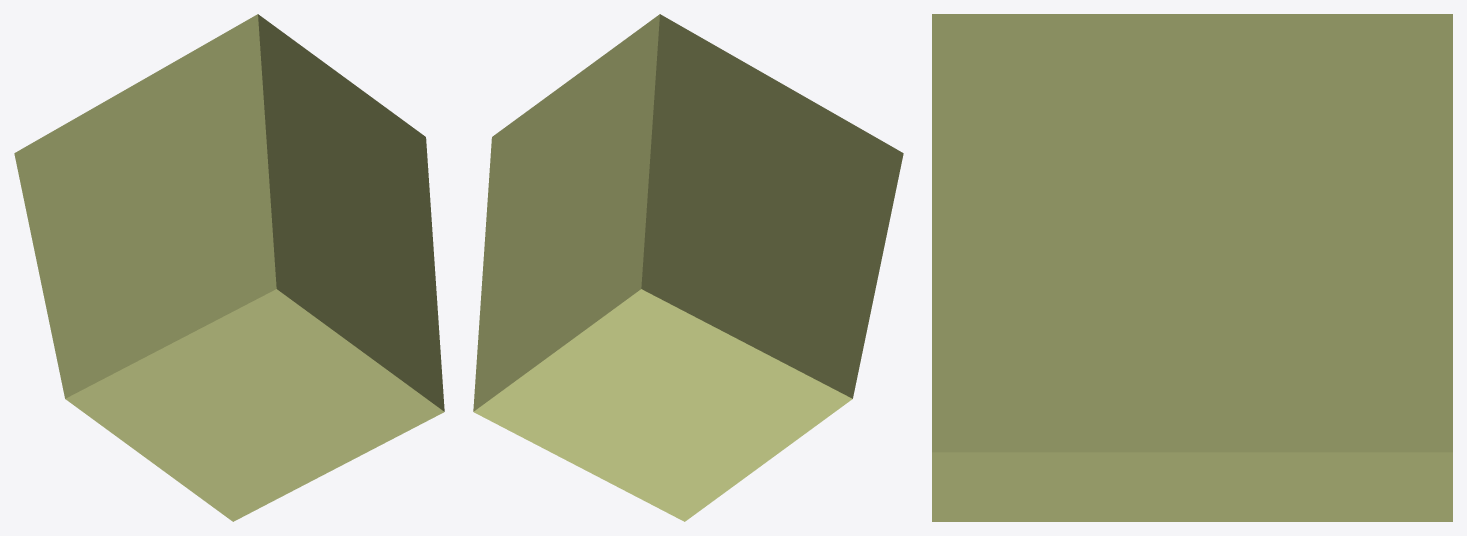
3 renders of one model, left to right at view 1: azimuth 30°, elevation 25°; view 2: azimuth 150°, elevation 25°; view 3: azimuth 270°, elevation 25°, orthographic. The views are drawn at different scales.
Parts seen in each view (by area): view 1: 0_1_2_0_0_2_2_0_2_2_2_1; view 2: 0_1_2_0_0_2_2_0_2_2_2_1; view 3: 0_1_2_0_0_2_2_0_2_2_2_1.
Part boxes in pixels (x1=…): 0_1_2_0_0_2_2_0_2_2_2_1: x1=14, y1=14, x2=444, y2=521; 0_1_2_0_0_2_2_0_2_2_2_1: x1=473, y1=14, x2=903, y2=521; 0_1_2_0_0_2_2_0_2_2_2_1: x1=932, y1=14, x2=1452, y2=521.
Bounding box in the file's own units: 5.41 × 6.66 × 6.
